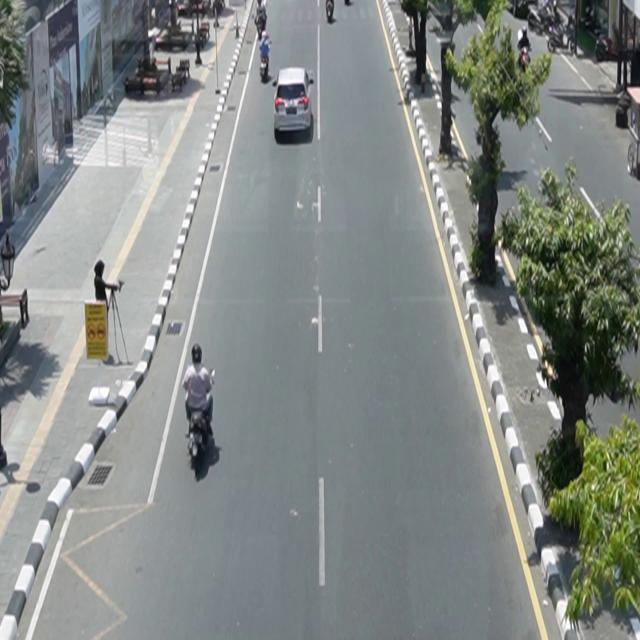car: (273, 67, 315, 136)
